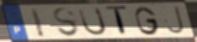G: (134, 6, 162, 37)
I: (29, 8, 47, 39)
J: (166, 5, 187, 35)
S: (52, 7, 81, 39)
T: (104, 5, 129, 38)
U: (77, 6, 108, 37)
